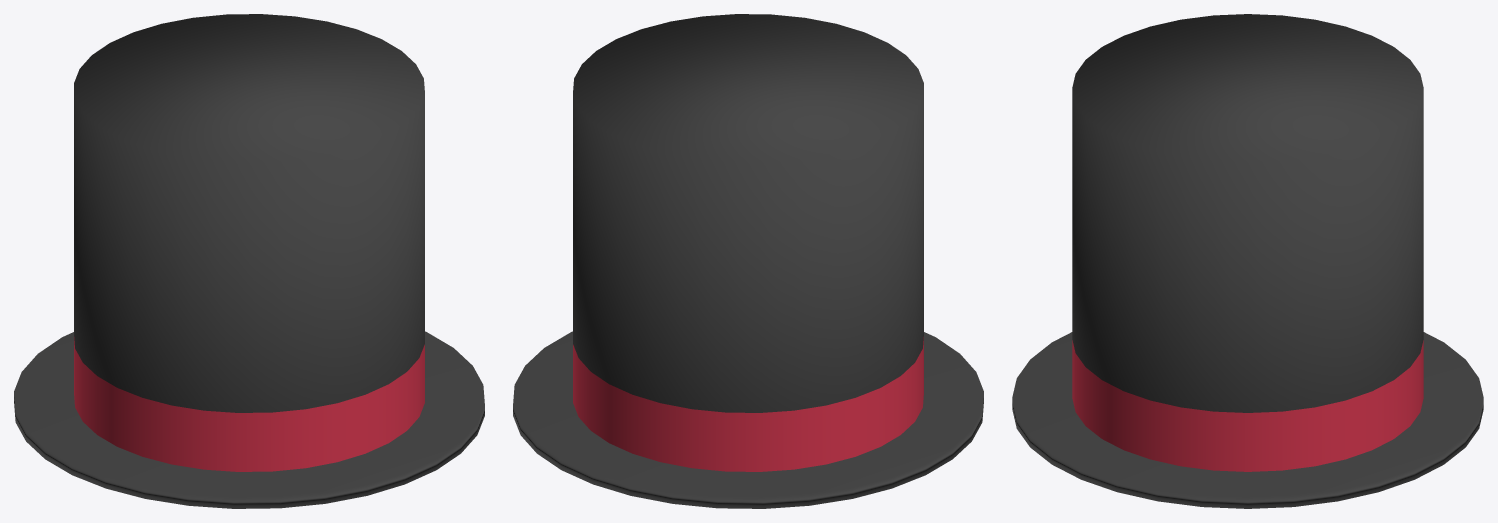
File: TopHat.fbx
The picture shows the model from 3 angles, left to right: view 1: azimuth 30°, elevation 25°; view 2: azimuth 150°, elevation 25°; view 3: azimuth 270°, elevation 25°; orthographic projection.
Parts seen in each view (by area): view 1: HatBase, Brim, Ribbon; view 2: HatBase, Brim, Ribbon; view 3: HatBase, Brim, Ribbon.
Part boxes in pixels (x1,y1,x2,y2): HatBase: (74,14,424,412); Brim: (14,331,484,508); Ribbon: (74,337,424,471); HatBase: (573,14,923,412); Brim: (513,331,983,508); Ribbon: (573,337,923,471); HatBase: (1072,14,1423,412); Brim: (1012,332,1483,508); Ribbon: (1072,340,1423,471).
Bounding box in the file's own units: 268 × 205 × 268.
